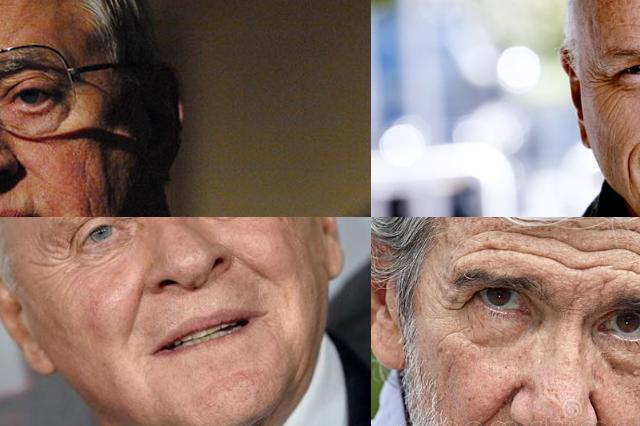crows_feet: (32, 240, 76, 274), (584, 63, 614, 101), (444, 294, 466, 318)
forehead: (558, 236, 612, 260), (520, 225, 550, 263), (475, 228, 511, 256), (558, 257, 600, 275), (618, 220, 640, 247), (608, 17, 640, 33), (620, 244, 640, 268), (621, 259, 640, 284)
gummy_smile: (224, 246, 266, 282), (120, 286, 146, 338), (470, 396, 501, 426), (619, 139, 637, 187), (589, 401, 611, 426)
masseter: (84, 197, 104, 217)
